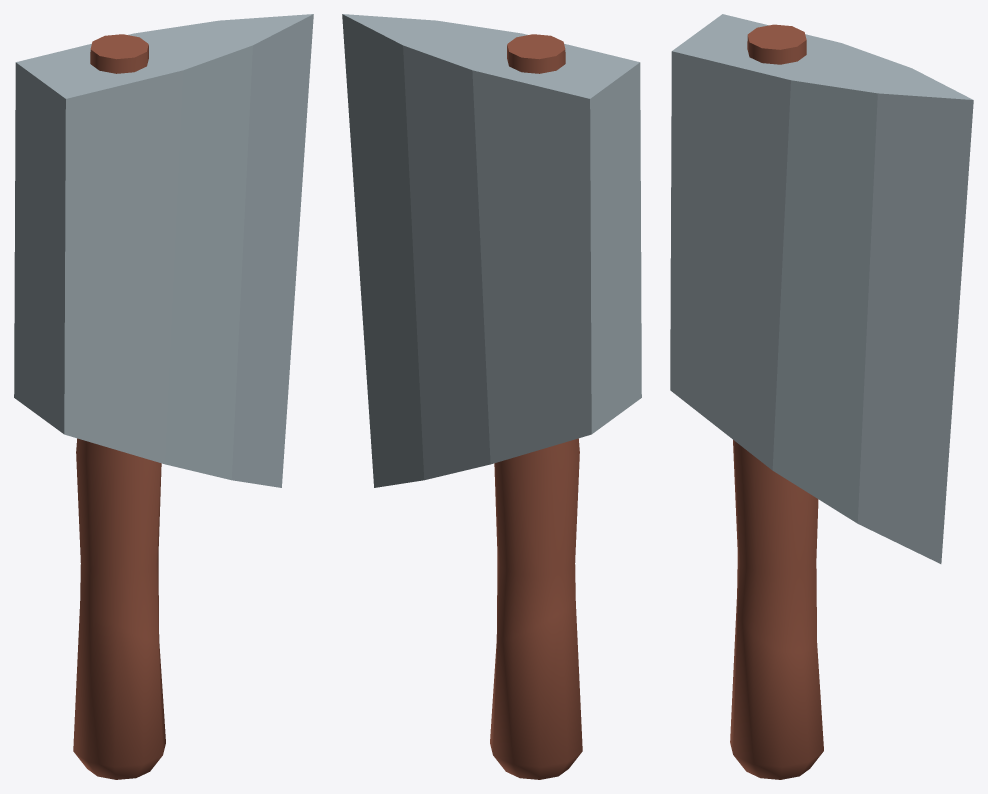
The model's file is cleaver.gltf.glb.
3 views of the same model, side by side, from view 1: azimuth 30°, elevation 25°; view 2: azimuth 150°, elevation 25°; view 3: azimuth 330°, elevation 25° (orthographic).
Parts seen in each view (by area): view 1: cleaver; view 2: cleaver; view 3: cleaver.
Part boxes in pixels (bbox=[...]): cleaver: bbox=[14, 14, 313, 779]; cleaver: bbox=[342, 14, 641, 779]; cleaver: bbox=[670, 14, 973, 779].
Size of the model in its own units: 0.3947 by 0.9879 by 0.1249.
